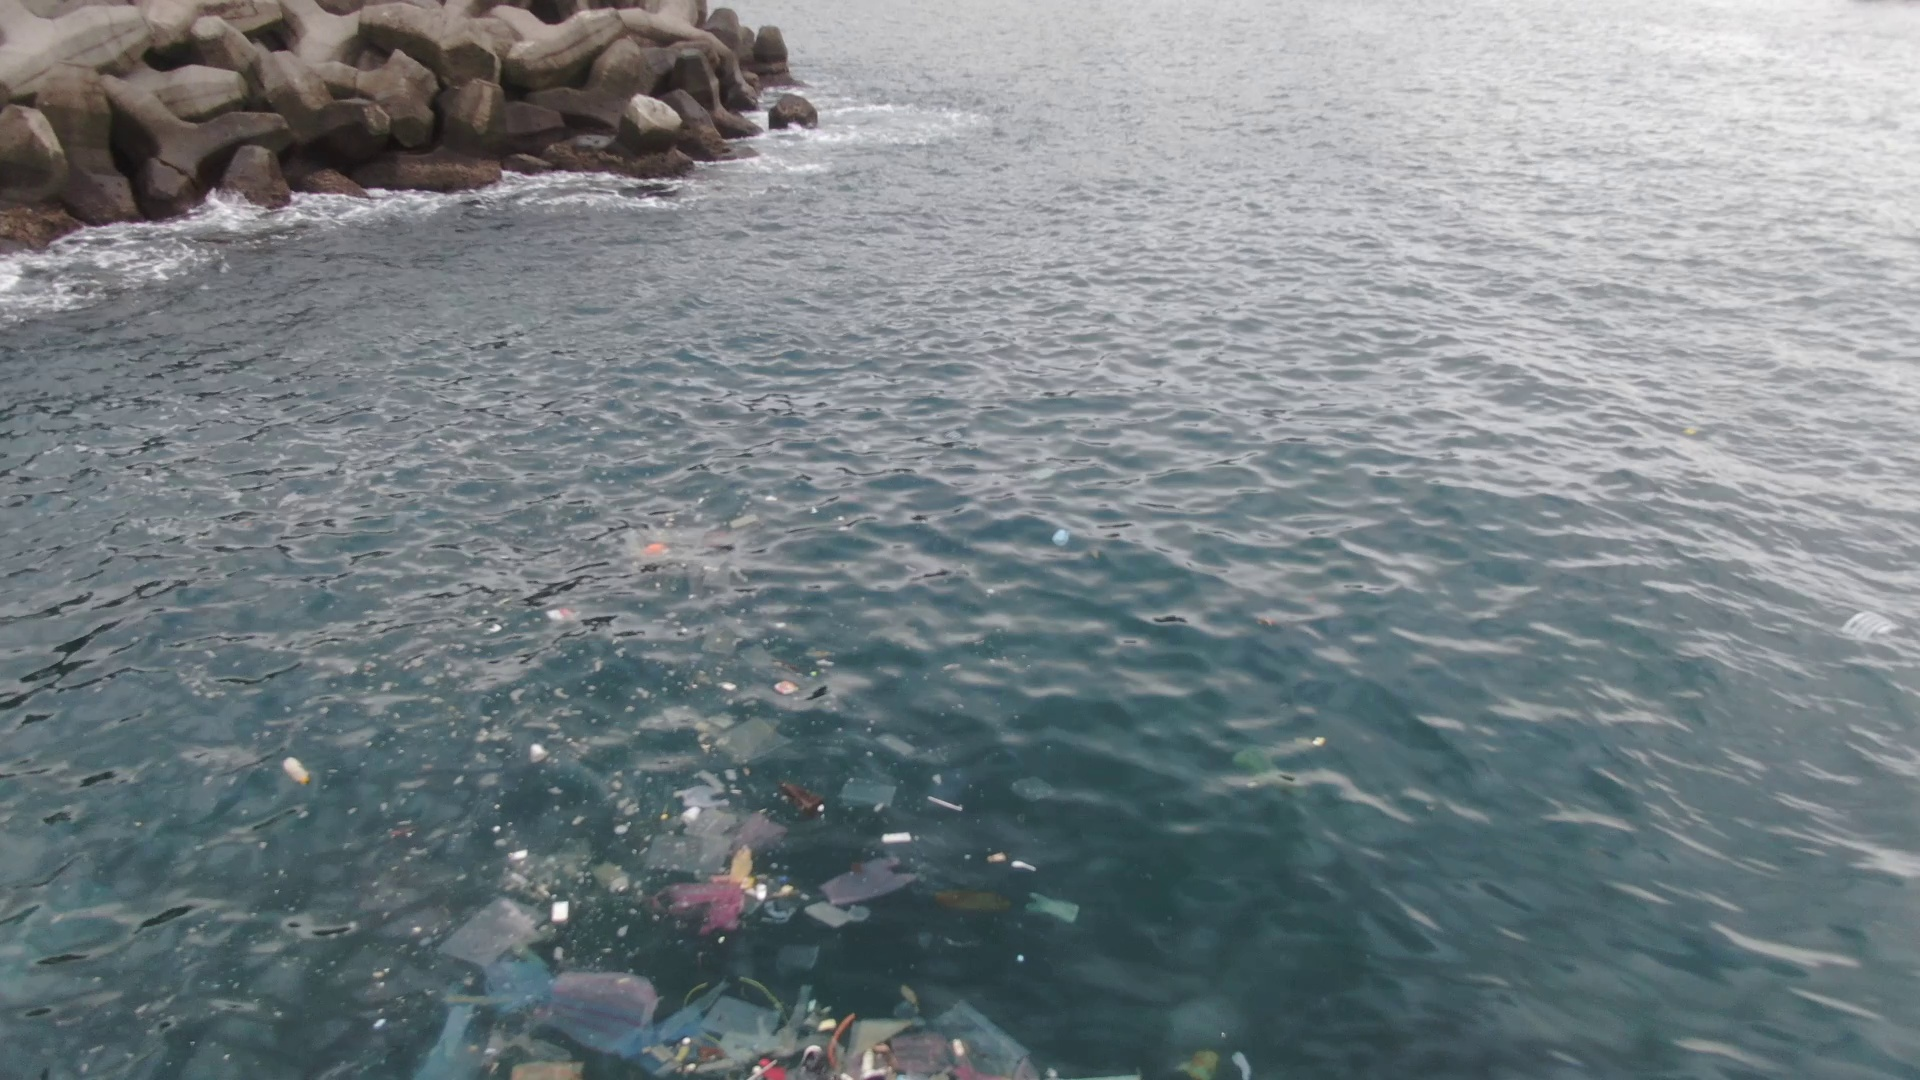garbage: (423, 526, 1257, 1080)
